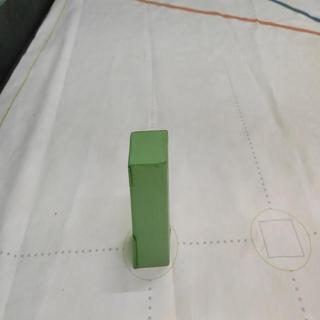greenbox: (128, 129, 172, 268)
